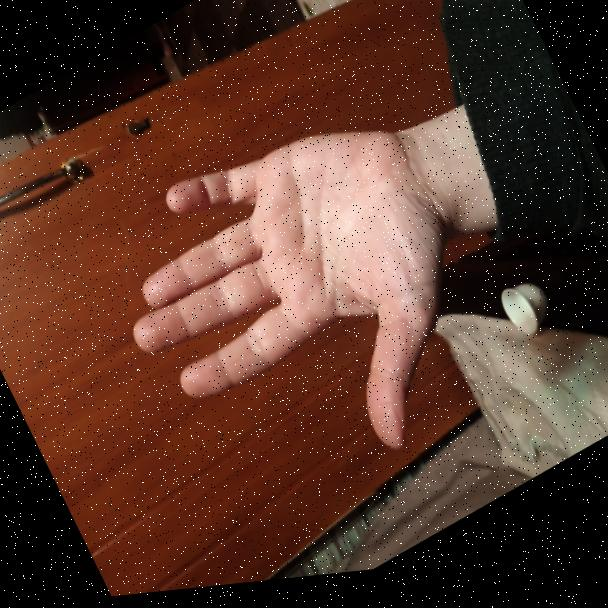five: (77, 63, 525, 564)
